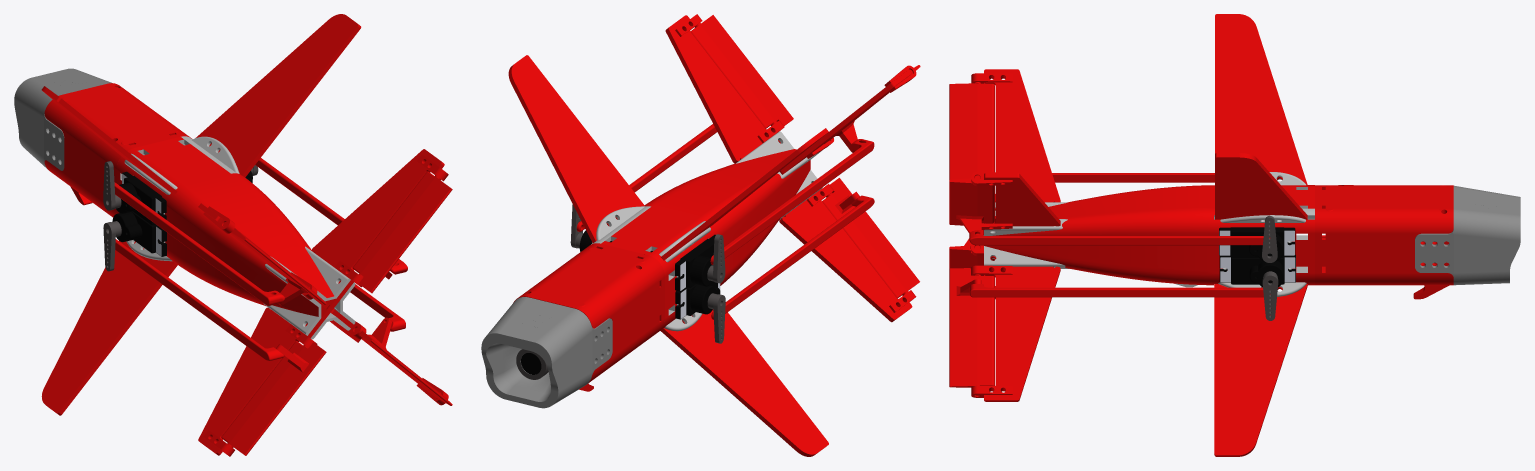
Rendered from trident.glb.
The picture shows the model from 3 angles, left to right: view 1: azimuth 30°, elevation 25°; view 2: azimuth 150°, elevation 25°; view 3: azimuth 270°, elevation 25°; orthographic projection. The views are drawn at different scales.
Visible parts, largest first — view 1: Trident_fuselage-1, trident_second_control_fin_holder-1, top_main_wings-3, trident_bottom_wing-1, trident_top_cover-1, TRIDENT_top_right_bottom_left_wing-2, RoboMaster_Dart_Trigger_Device-1, TRIDENT_top_right_bottom_left_wing-1, Trident_body_main-1, top_tie_rod-1, trident_bottom_left_top_right_tie_rod-1, Assembly_SERVO_part-3 (+9 smaller); view 2: Trident_fuselage-1, RoboMaster_Dart_Trigger_Device-1, trident_second_control_fin_holder-1, top_main_wings-3, trident_bottom_wing-1, trident_top_cover-1, Trident_body_main-1, TRIDENT_top_right_bottom_left_wing-1, TRIDENT_top_right_bottom_left_wing-2, top_tie_rod-1, trident_bottom_left_top_right_tie_rod-1, Assembly_SERVO_part-1 (+8 smaller); view 3: Trident_fuselage-1, trident_first_control_fin_holder-1, trident_bottom_wing-2, top_main_wings-2, Trident_body_main-1, RoboMaster_Dart_Trigger_Device-1, trident_top_cover-1, TRIDENT_top_left_bottom_right_wing-2, TRIDENT_top_left_bottom_right_wing-3, top_main_wings-3, top_tie_rod-2, trident_bottom_left_top_right_tie_rod-2 (+8 smaller).
Part boxes in pixels (bbox=[...]): Trident_fuselage-1: bbox=[116, 136, 355, 339]; trident_second_control_fin_holder-1: bbox=[198, 149, 444, 455]; top_main_wings-3: bbox=[196, 14, 361, 177]; trident_bottom_wing-1: bbox=[41, 241, 177, 415]; trident_top_cover-1: bbox=[48, 83, 191, 157]; TRIDENT_top_right_bottom_left_wing-2: bbox=[221, 341, 326, 455]; RoboMaster_Dart_Trigger_Device-1: bbox=[14, 68, 112, 170]; TRIDENT_top_right_bottom_left_wing-1: bbox=[353, 171, 452, 293]; Trident_body_main-1: bbox=[44, 105, 120, 217]; top_tie_rod-1: bbox=[114, 182, 284, 305]; trident_bottom_left_top_right_tie_rod-1: bbox=[115, 239, 283, 360]; Assembly_SERVO_part-3: bbox=[112, 211, 166, 256]; Trident_fuselage-1: bbox=[591, 131, 822, 331]; RoboMaster_Dart_Trigger_Device-1: bbox=[481, 297, 612, 408]; trident_second_control_fin_holder-1: bbox=[665, 15, 912, 322]; top_main_wings-3: bbox=[508, 55, 644, 242]; trident_bottom_wing-1: bbox=[660, 309, 828, 456]; trident_top_cover-1: bbox=[515, 243, 660, 318]; Trident_body_main-1: bbox=[513, 265, 664, 391]; TRIDENT_top_right_bottom_left_wing-1: bbox=[690, 15, 793, 128]; TRIDENT_top_right_bottom_left_wing-2: bbox=[822, 178, 919, 298]; top_tie_rod-1: bbox=[710, 139, 874, 264]; trident_bottom_left_top_right_tie_rod-1: bbox=[711, 195, 874, 319]; Assembly_SERVO_part-1: bbox=[650, 234, 715, 291]; Trident_fuselage-1: bbox=[984, 172, 1314, 296]; trident_first_control_fin_holder-1: bbox=[984, 69, 1060, 401]; trident_bottom_wing-2: bbox=[1214, 284, 1307, 456]; top_main_wings-2: bbox=[1215, 14, 1307, 184]; Trident_body_main-1: bbox=[1315, 221, 1453, 299]; RoboMaster_Dart_Trigger_Device-1: bbox=[1415, 185, 1520, 285]; trident_top_cover-1: bbox=[1315, 185, 1453, 221]; TRIDENT_top_left_bottom_right_wing-2: bbox=[949, 268, 994, 395]; TRIDENT_top_left_bottom_right_wing-3: bbox=[949, 82, 994, 179]; top_main_wings-3: bbox=[1215, 153, 1307, 219]; top_tie_rod-2: bbox=[969, 284, 1270, 297]; trident_bottom_left_top_right_tie_rod-2: bbox=[969, 230, 1270, 245].
Bounding box in the file's own units: 0.1429 × 0.1428 × 0.2432.
